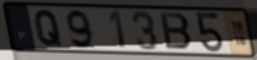1: (108, 9, 128, 51)
3: (131, 8, 159, 52)
5: (193, 11, 225, 54)
9: (64, 8, 96, 50)
B: (158, 11, 195, 52)
Q: (33, 8, 64, 48)
